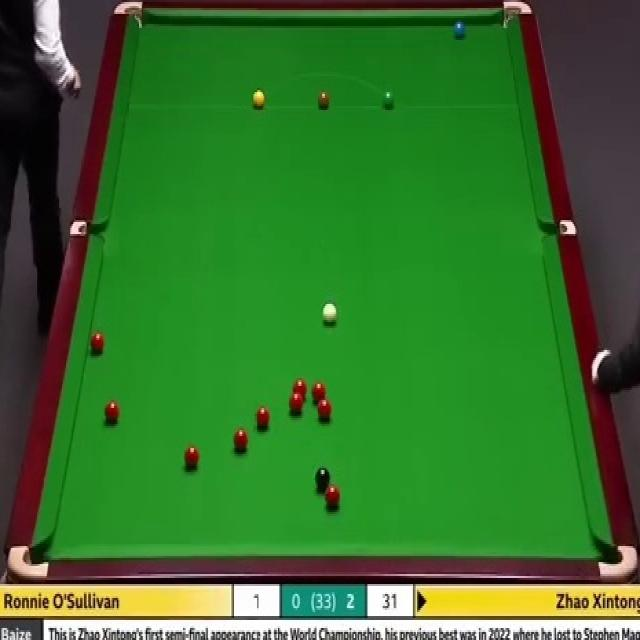black-ball: (312, 466, 331, 492)
blue-ball: (452, 18, 468, 43)
brown-ball: (317, 91, 331, 111)
green-ball: (382, 90, 396, 112)
red-ball: (102, 397, 120, 427), (183, 444, 202, 472), (233, 428, 249, 455), (325, 485, 341, 512), (89, 332, 106, 357), (256, 408, 272, 432), (288, 393, 304, 416), (291, 379, 308, 400), (317, 398, 332, 420), (311, 382, 327, 402)
white-ball: (320, 299, 340, 327)
yellow-ball: (252, 90, 266, 110)
